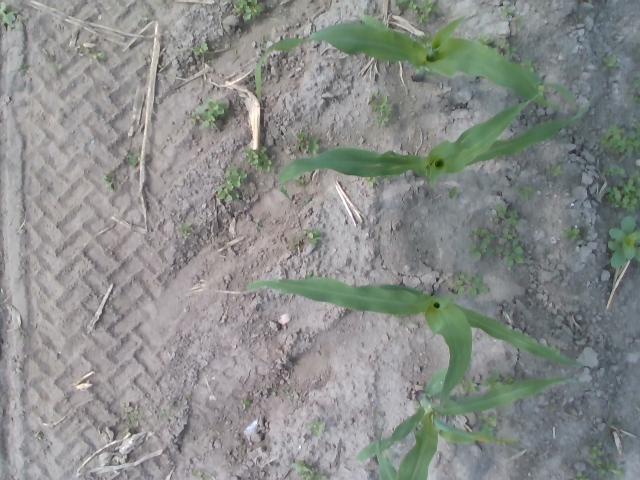Maize: (245, 275, 582, 410), (278, 83, 593, 203), (256, 12, 560, 113), (358, 375, 596, 480), (375, 421, 408, 480)
Weeds: (470, 226, 526, 266), (606, 216, 640, 269), (604, 169, 640, 212), (599, 119, 640, 156), (584, 442, 625, 479), (190, 97, 227, 131), (448, 270, 491, 298), (215, 166, 248, 201), (395, 0, 440, 24), (242, 146, 276, 173), (369, 92, 393, 128), (489, 203, 520, 229), (289, 460, 327, 480), (498, 3, 526, 28), (232, 0, 265, 21), (294, 129, 319, 155), (480, 372, 516, 390), (476, 414, 500, 438), (0, 0, 18, 31), (493, 36, 516, 60), (76, 43, 106, 59), (298, 228, 324, 244), (457, 377, 477, 395), (124, 146, 142, 166), (561, 226, 582, 242), (600, 54, 620, 70), (514, 184, 532, 201), (176, 221, 194, 238), (601, 164, 625, 176), (310, 420, 326, 437), (474, 33, 494, 46), (101, 173, 115, 191), (546, 163, 564, 176), (521, 57, 536, 72), (532, 83, 548, 97), (193, 42, 209, 56), (362, 175, 378, 187), (570, 471, 590, 480), (293, 172, 305, 186), (127, 410, 139, 423), (446, 186, 458, 198), (630, 95, 640, 106), (19, 62, 28, 74), (632, 76, 640, 88), (242, 398, 250, 408), (192, 470, 205, 476), (140, 16, 150, 23), (260, 35, 267, 45)
